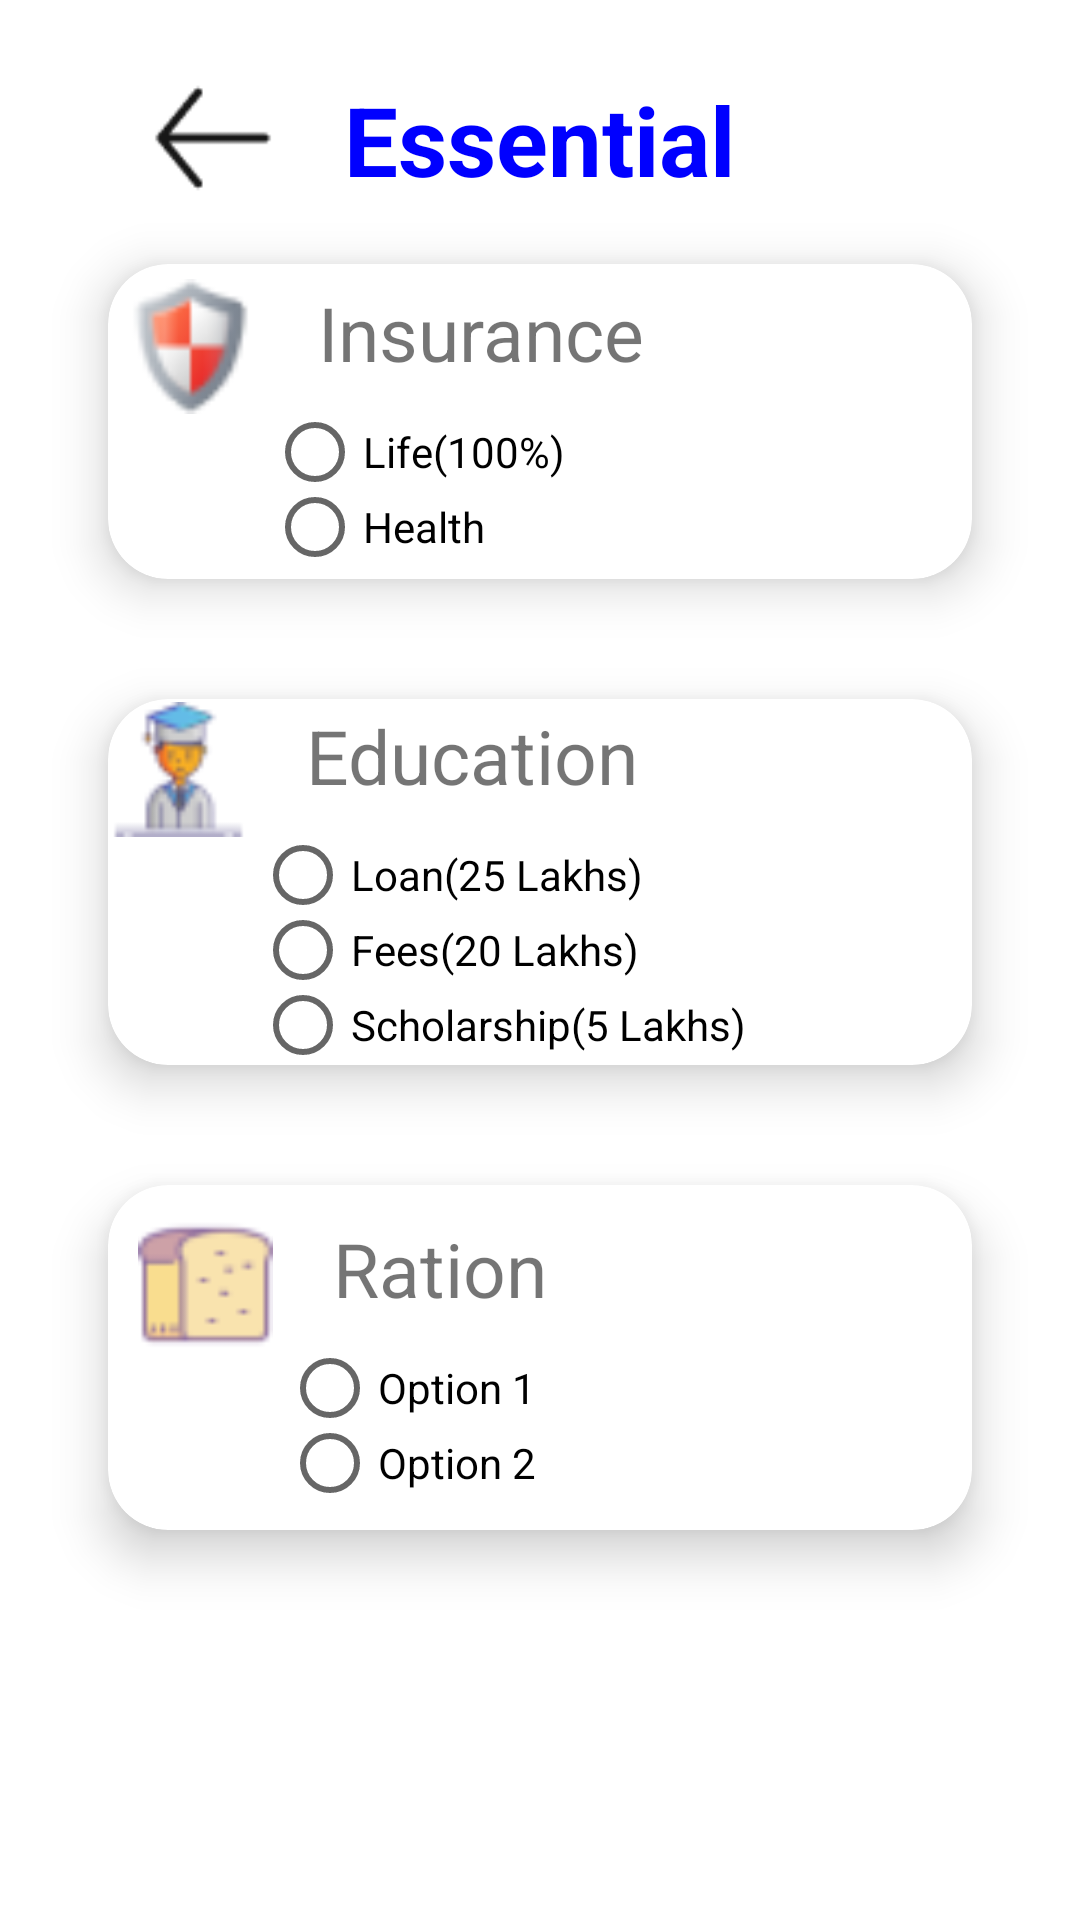

Where to tap for icons on this 1080 x 1920 app screen, as (x,y):
back arrow: (213,138)
